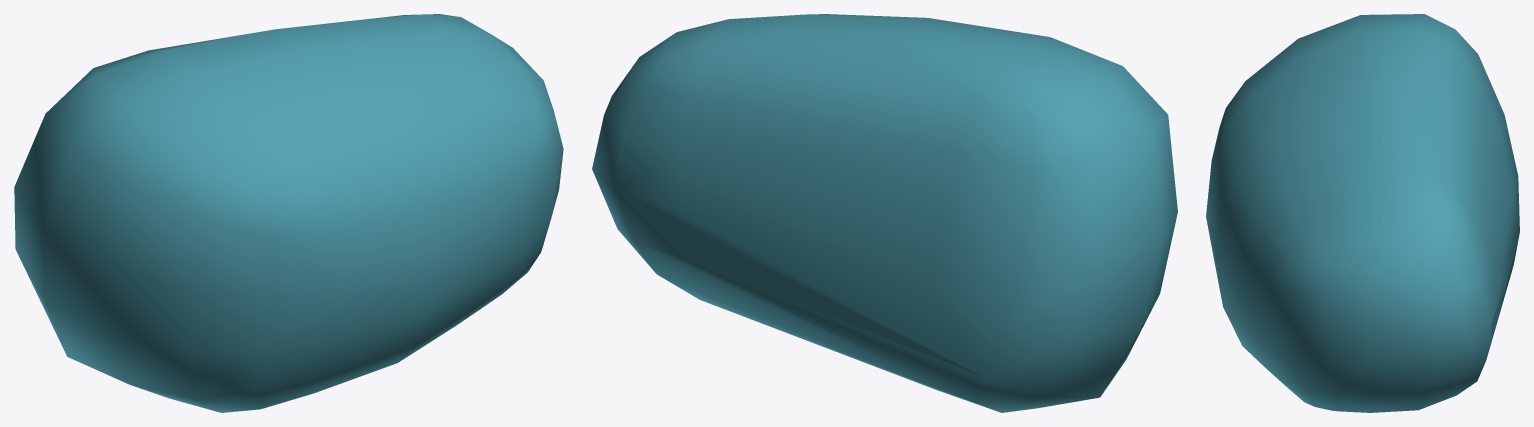
The model's file is COL_Alpha_Surface_029_convex_hull.dae.
3 views of the same model, side by side, from view 1: azimuth 30°, elevation 25°; view 2: azimuth 150°, elevation 25°; view 3: azimuth 270°, elevation 25° (orthographic). The views are drawn at different scales.
Parts seen in each view (by area): view 1: COL_Alpha_Surface_029_convex_hull; view 2: COL_Alpha_Surface_029_convex_hull; view 3: COL_Alpha_Surface_029_convex_hull.
Part boxes in pixels (x1,y1,x2,y2): COL_Alpha_Surface_029_convex_hull: [14, 14, 563, 412]; COL_Alpha_Surface_029_convex_hull: [592, 14, 1177, 412]; COL_Alpha_Surface_029_convex_hull: [1206, 14, 1519, 412].
Size of the model in its own units: 3.49 by 2.05 by 2.09.
